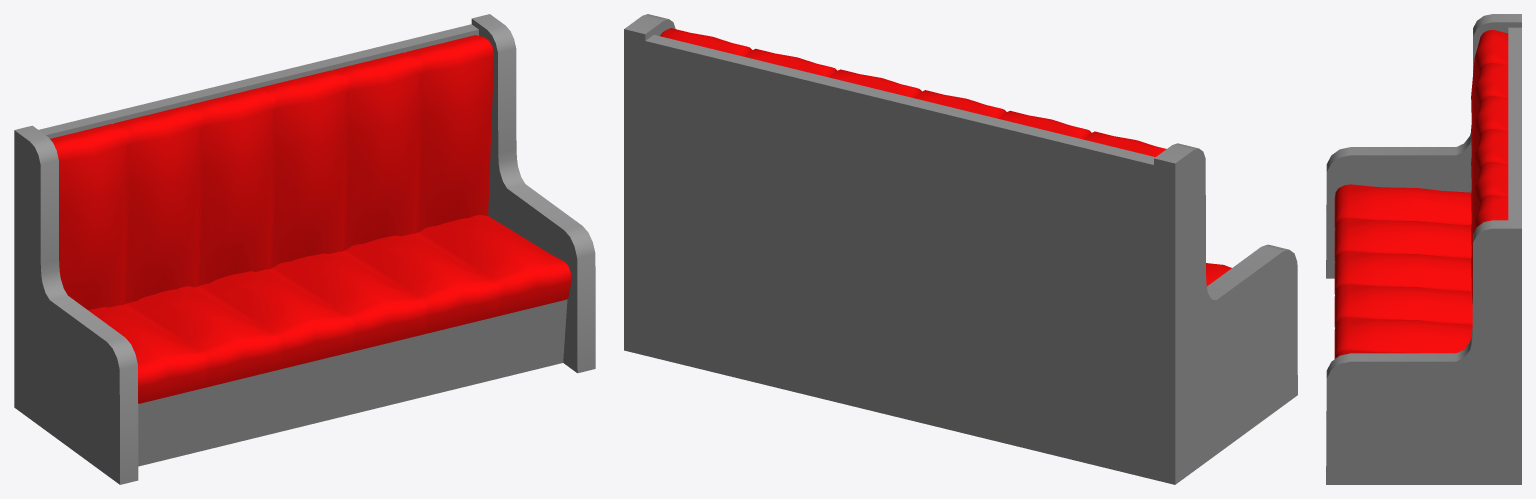
File: SM_BoothComplete.FBX
3 renders of one model, left to right at view 1: azimuth 30°, elevation 25°; view 2: azimuth 150°, elevation 25°; view 3: azimuth 270°, elevation 25°, orthographic. The views are drawn at different scales.
Parts seen in each view (by area): view 1: SM_RightPanel; view 2: SM_RightPanel; view 3: SM_RightPanel.
Boxes of the visible parts, x1,y1,x2,y2 form: SM_RightPanel: (14,14,595,484); SM_RightPanel: (624,14,1297,484); SM_RightPanel: (1326,14,1521,484).
Size of the model in its own units: 260 by 145 by 100.
